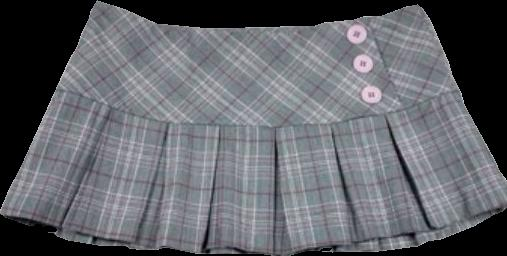Hemline: (0, 205, 506, 255)
Waistline: (55, 86, 460, 127), (97, 0, 419, 29)
